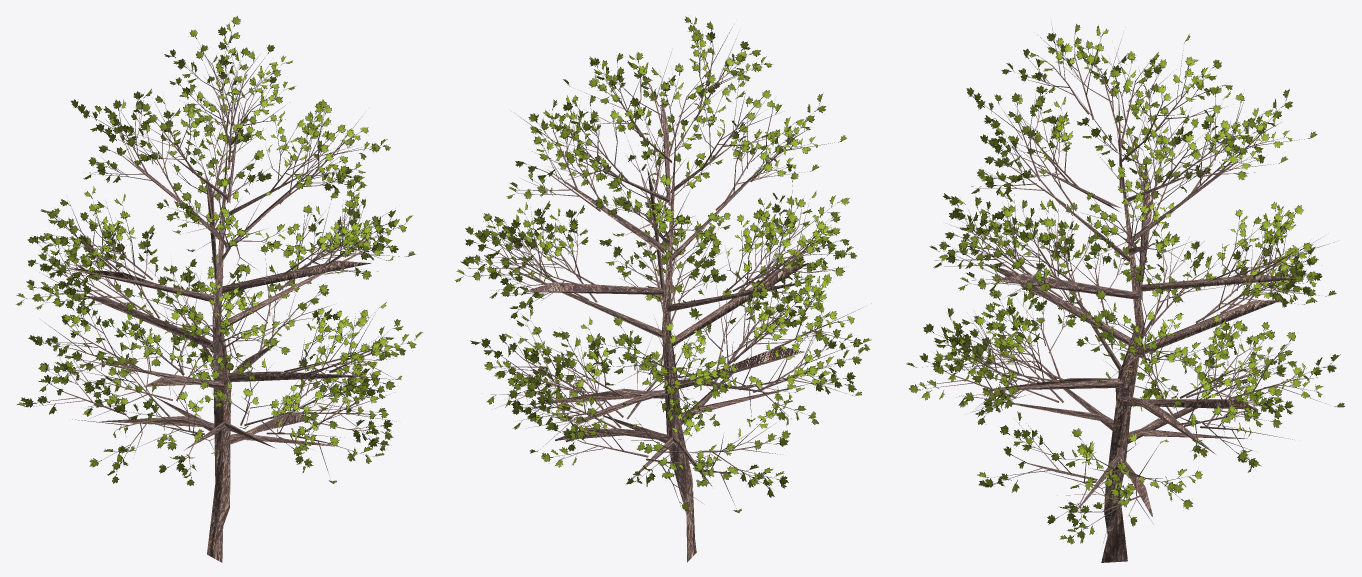
File: tree_maple.glb
3 views of the same model, side by side, from view 1: azimuth 30°, elevation 25°; view 2: azimuth 150°, elevation 25°; view 3: azimuth 270°, elevation 25° (orthographic). The views are drawn at different scales.
Visible parts, largest first — view 1: Tree_1Mat, Tree_0Mat; view 2: Tree_1Mat, Tree_0Mat; view 3: Tree_1Mat, Tree_0Mat.
Boxes of the visible parts, <box> form: Tree_1Mat: <box>16,16,422,485</box>; Tree_0Mat: <box>29,34,407,562</box>; Tree_1Mat: <box>455,16,871,512</box>; Tree_0Mat: <box>468,23,871,562</box>; Tree_1Mat: <box>906,24,1344,544</box>; Tree_0Mat: <box>911,24,1334,562</box>.
Bounding box in the file's own units: 0.7436 × 0.9921 × 0.7377.
Materials: 2 (2 with a texture image).
